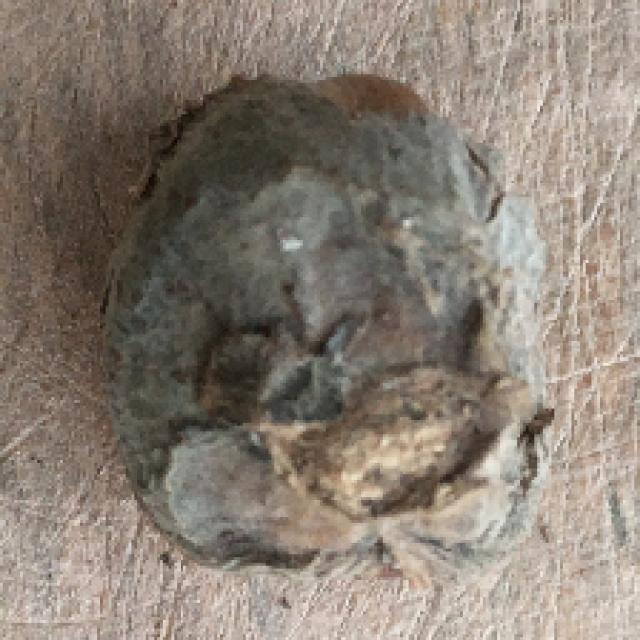damagedHazelnut: (97, 64, 554, 582)
